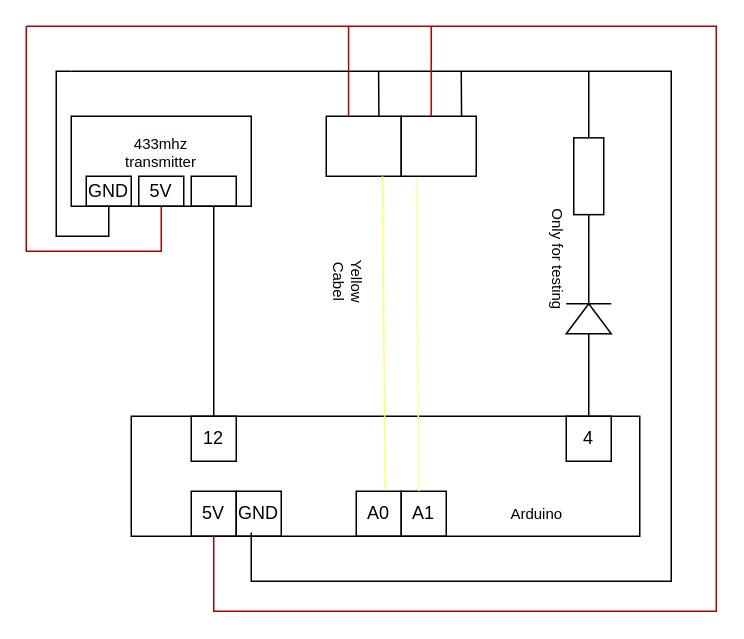
This 744x639 diagram has some shape labels left out. The shapes that lost their labels are listed below. From the top down, each one's centre as x and y in pixels, then its label:
At pixel 363 145: "Distance Sensor R".
At pixel 438 145: "Distance Sensor L".
At pixel 213 190: "VCC".
At pixel 588 175: "270 Ohm".
